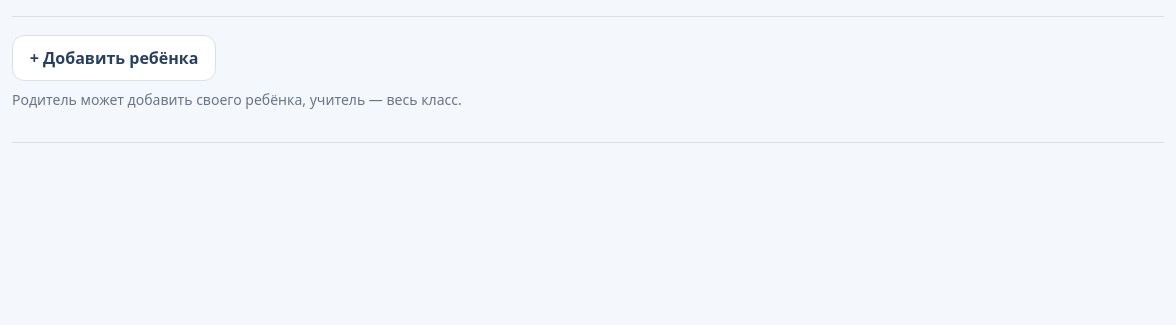
Test case: keeps entered names after a server error
The width and height of the screenshot is (1176, 325).
Click the button "+ Добавить ребёнка": (114,58) [12, 35, 216, 81]
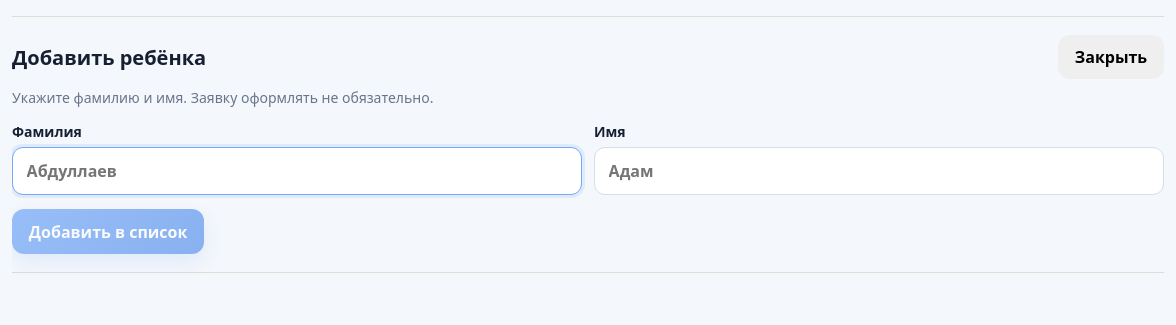
In the field labelled "Фамилия": (297,171) [12, 147, 582, 195], type "Гараев"
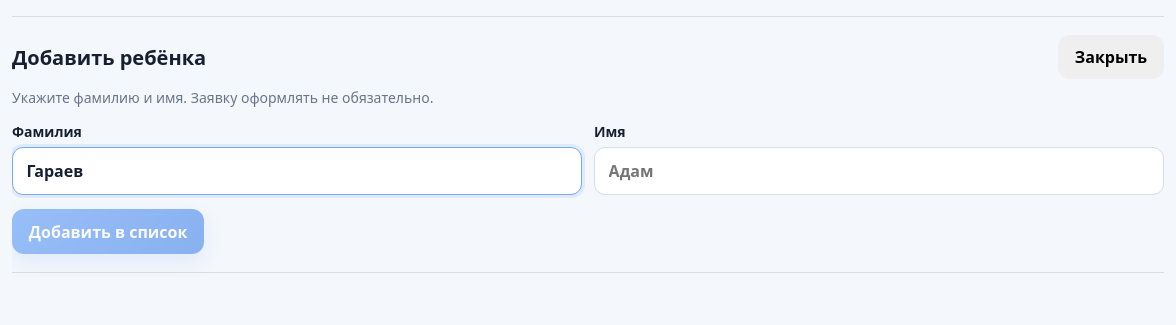
In the field labelled "Имя": (879,171) [594, 147, 1164, 195], type "Иса"
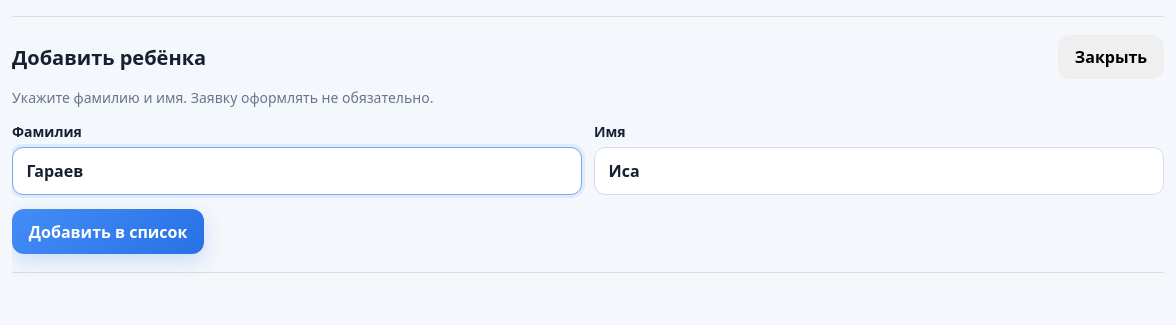
Click the button "Добавить в список": (108,232) [12, 209, 204, 254]
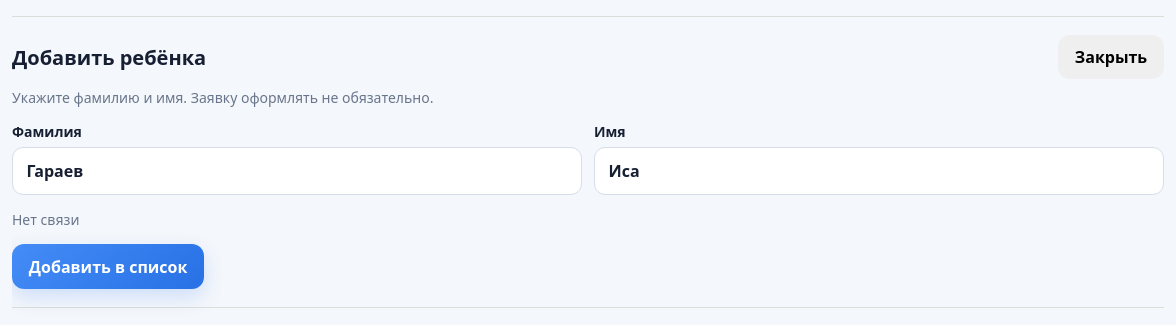
Expected: the message reads "Нет связи", [12, 210, 80, 229]
